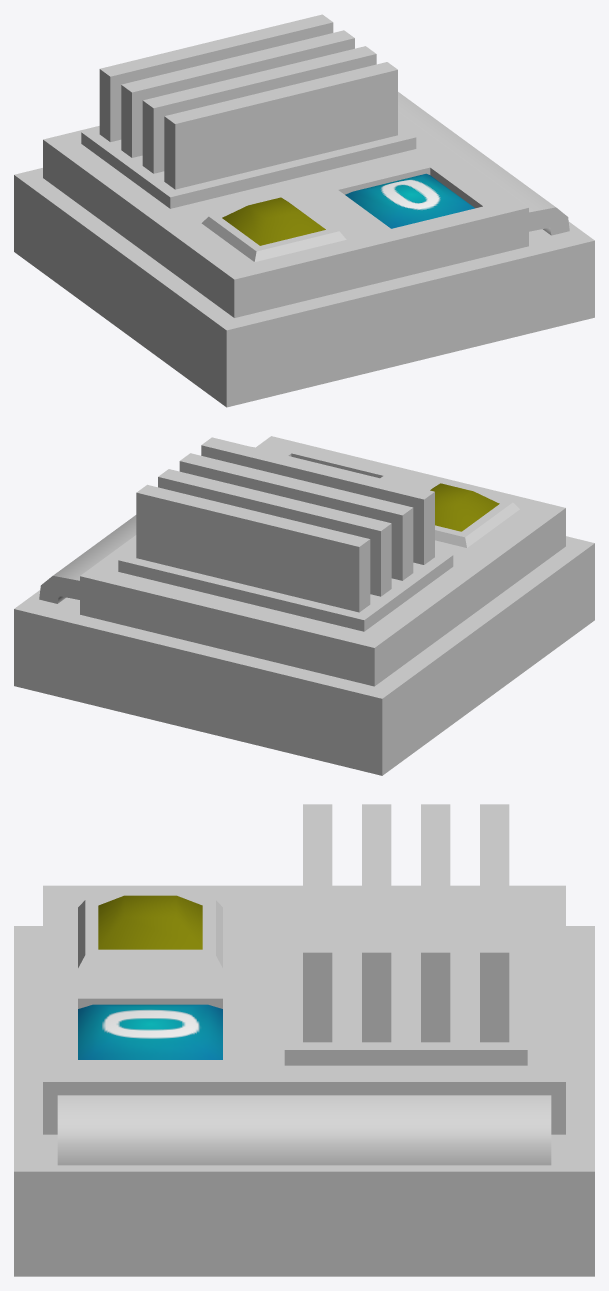
Rendered from blueflame_memory_off.fbx.
3 renders of one model, top to bottom at view 1: azimuth 30°, elevation 25°; view 2: azimuth 150°, elevation 25°; view 3: azimuth 270°, elevation 25°, orthographic. The views are drawn at different scales.
Visible parts, largest first — view 1: memory_off; view 2: memory_off; view 3: memory_off.
Boxes of the visible parts, bbox=[...] form: memory_off: bbox=[14, 14, 594, 407]; memory_off: bbox=[14, 436, 594, 775]; memory_off: bbox=[14, 804, 594, 1276].
Bounding box in the file's own units: 1 × 0.5 × 1.
